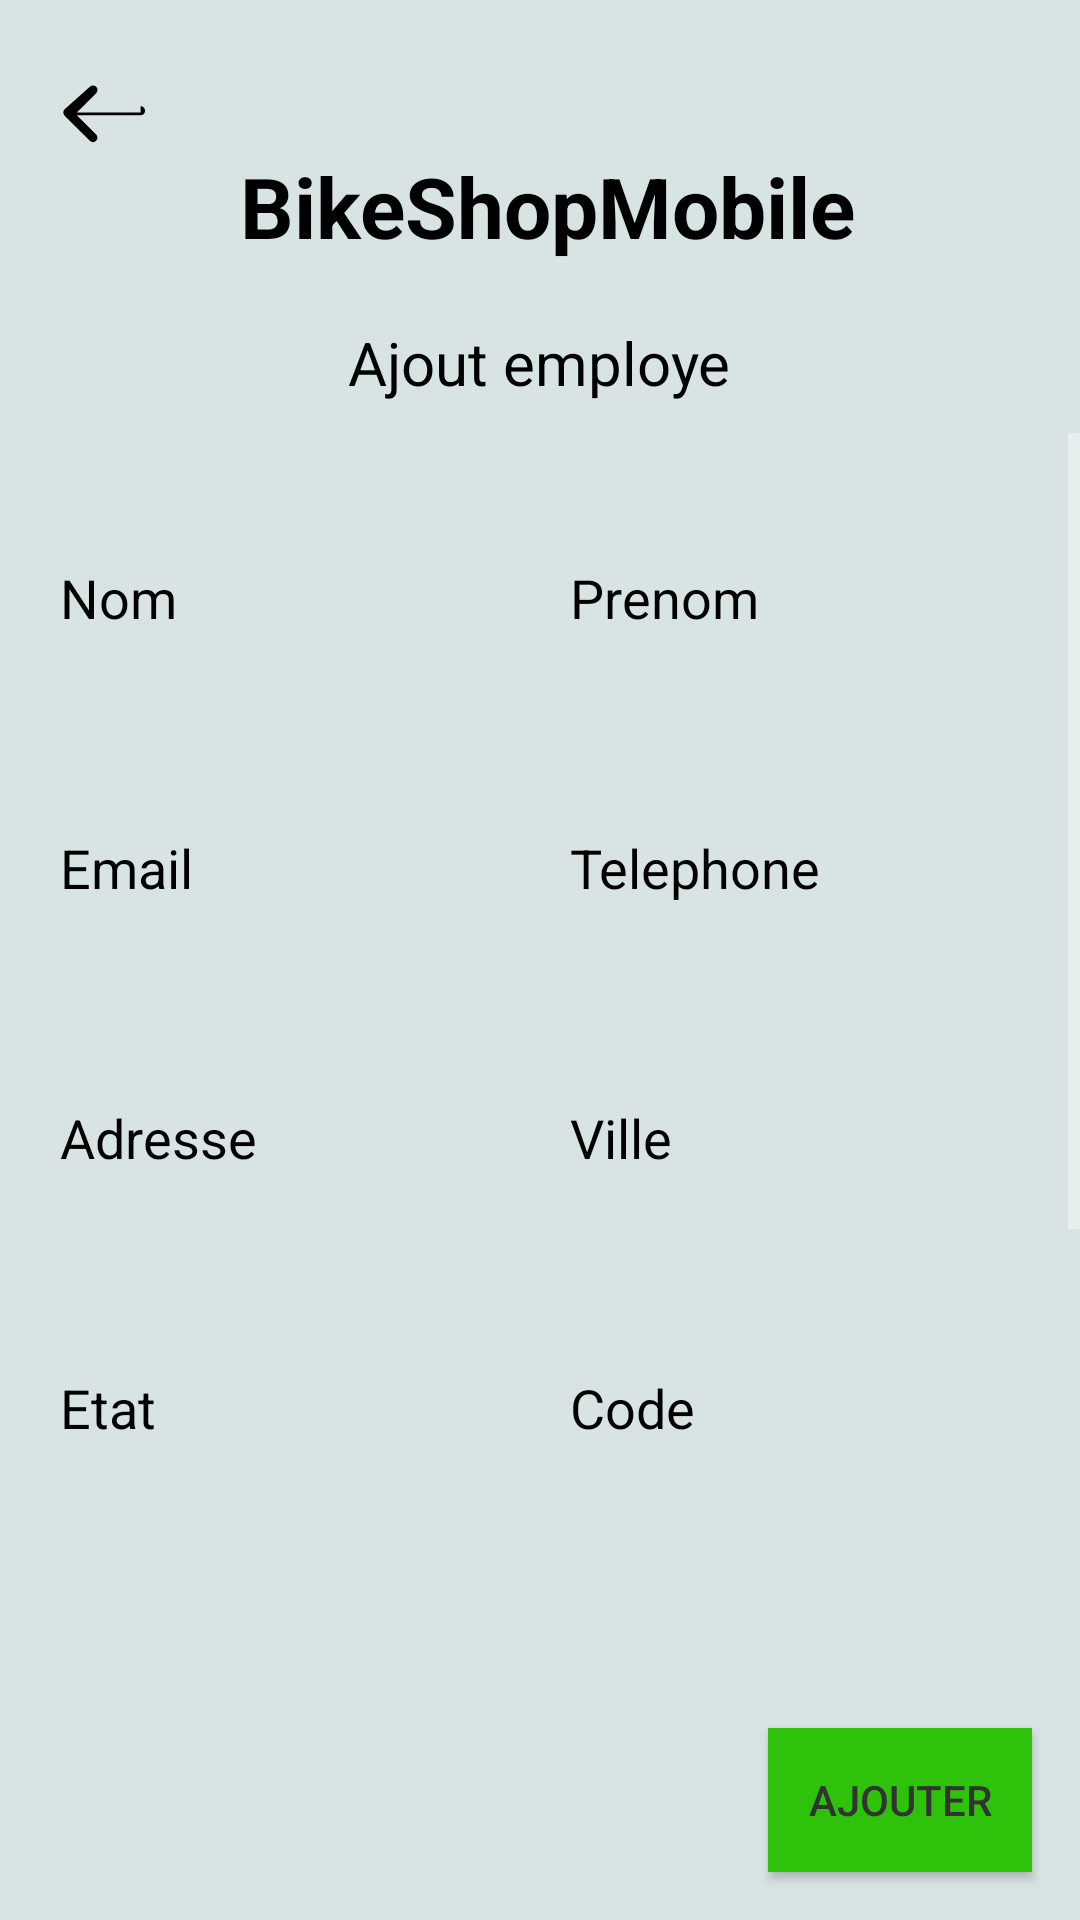

Icons on this 1080*1920 Android screen, each with the point to tap as (x=x, y=y):
back: (x=104, y=114)
